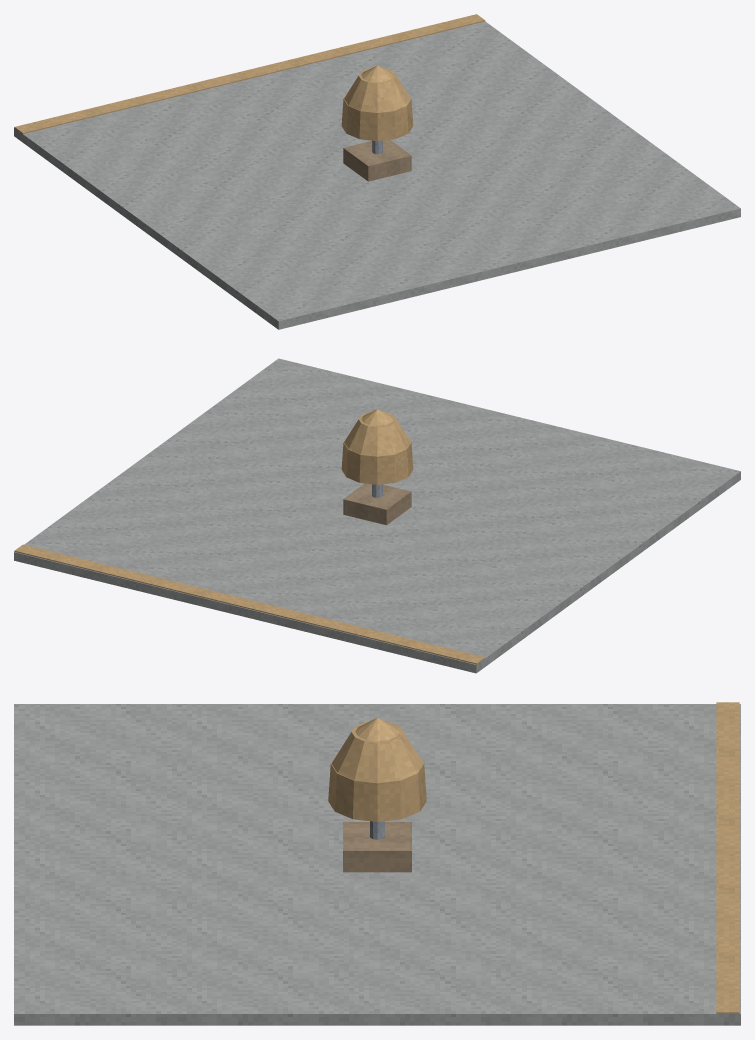
File: level_blockout_kit_school_p04.glb
3 views of the same model, one above another, from view 1: azimuth 30°, elevation 25°; view 2: azimuth 150°, elevation 25°; view 3: azimuth 270°, elevation 25° (orthographic). The views are drawn at different scales.
Parts seen in each view (by area): view 1: level_blockout_kit_school_p04; view 2: level_blockout_kit_school_p04; view 3: level_blockout_kit_school_p04.
Part boxes in pixels (bbox=[...]): level_blockout_kit_school_p04: bbox=[14, 14, 740, 329]; level_blockout_kit_school_p04: bbox=[14, 358, 740, 673]; level_blockout_kit_school_p04: bbox=[14, 702, 740, 1025].
Size of the model in its own units: 5.65 by 1.3 by 5.6.
Materials: 4 (4 with a texture image).
